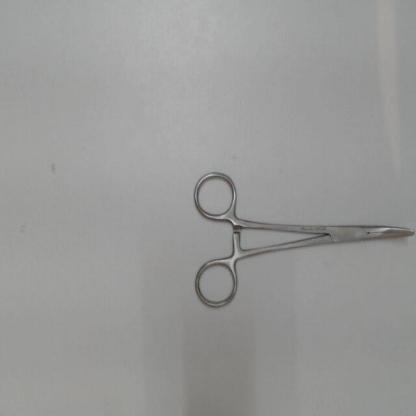Crile Artery Forceps: (192, 162, 414, 310)
